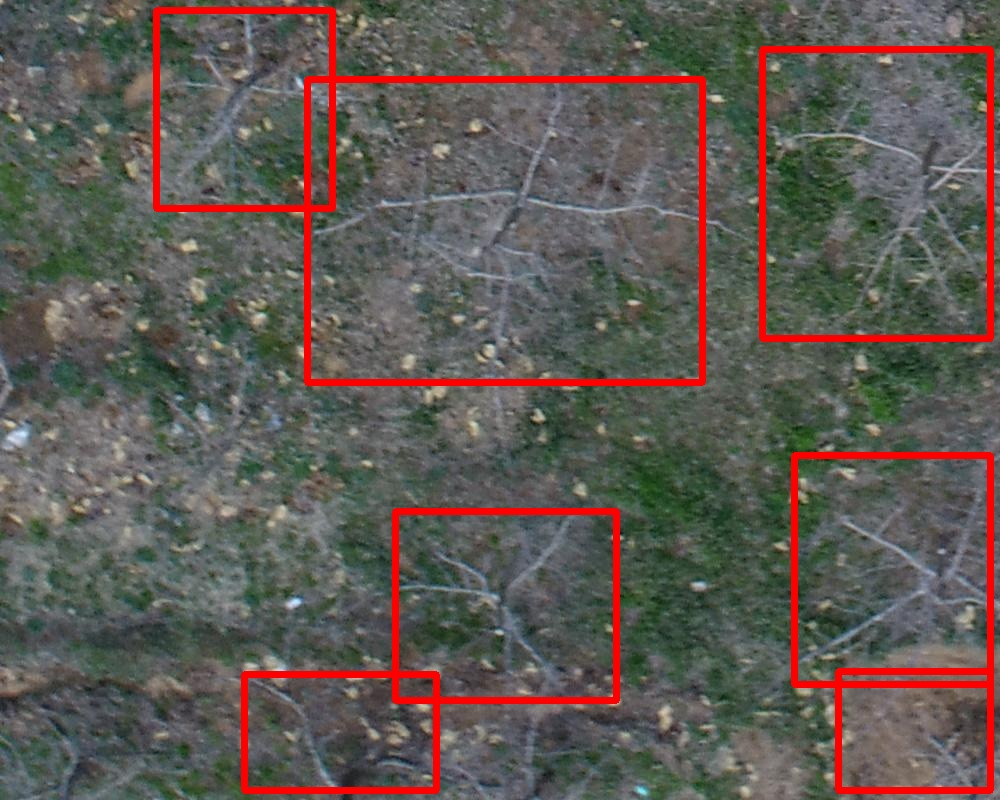apple: (307, 79, 702, 382), (762, 49, 990, 338), (794, 455, 990, 684), (395, 511, 616, 700), (156, 10, 332, 208), (244, 674, 436, 790), (838, 671, 990, 790)
